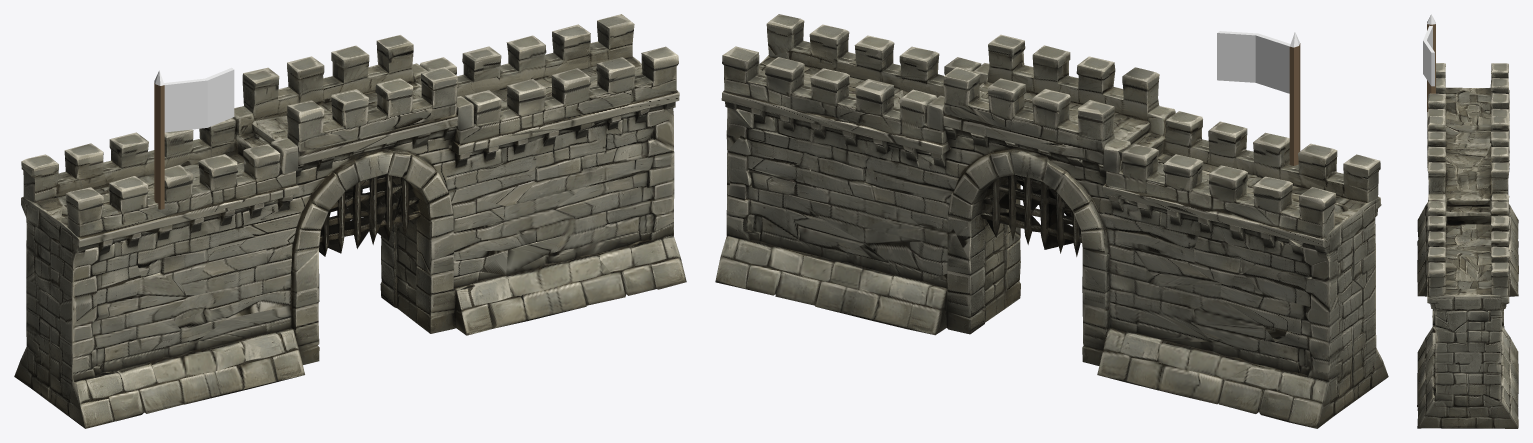
The picture shows the model from 3 angles, left to right: view 1: azimuth 30°, elevation 25°; view 2: azimuth 150°, elevation 25°; view 3: azimuth 270°, elevation 25°; orthographic projection. The views are drawn at different scales.
Parts seen in each view (by area): view 1: stone_gate, Team_banner; view 2: stone_gate, Team_banner; view 3: stone_gate, Team_banner.
Boxes of the visible parts, x1,y1,x2,y2 form: stone_gate: (14,14,686,428); Team_banner: (154,67,234,209); stone_gate: (715,14,1388,428); Team_banner: (1217,31,1300,165); stone_gate: (1417,63,1518,428); Team_banner: (1423,14,1435,111).
Size of the model in its own units: 1.9 by 1 by 0.3911.
Materials: 3 (1 with a texture image).
